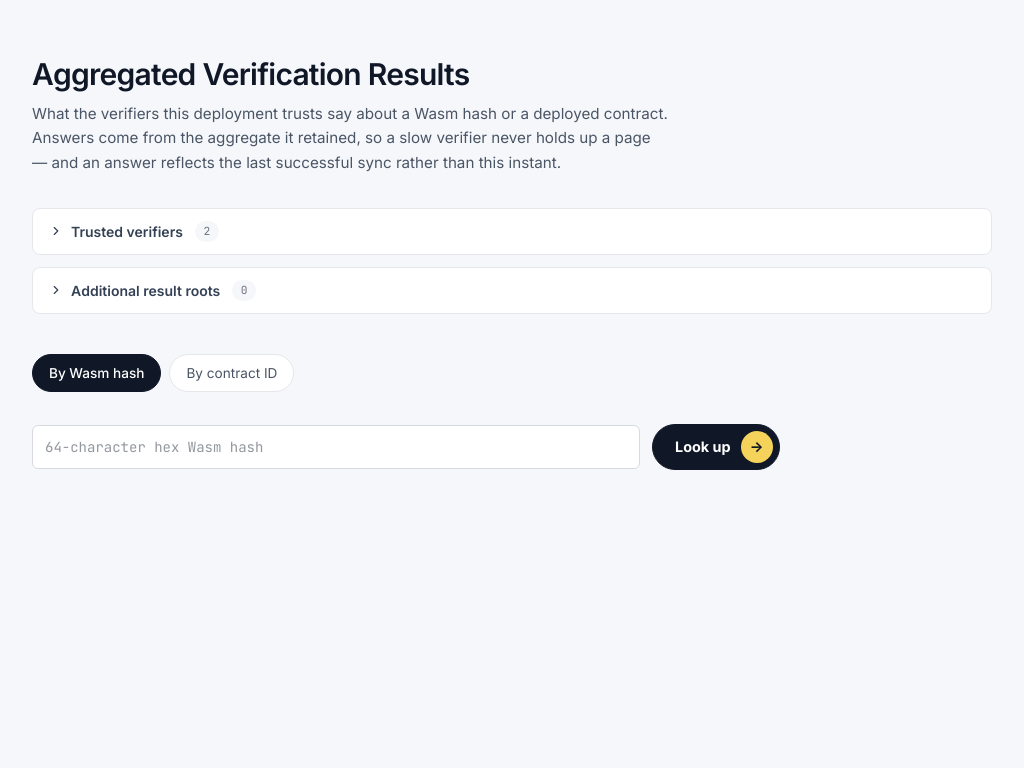
the aggregator page › javascript:alert(1) is refused rather than added
This screenshot has width=1024, height=768.
Click the button with test id "roots-section-toggle": (146, 290) x1=33 y1=268 x2=991 y2=313
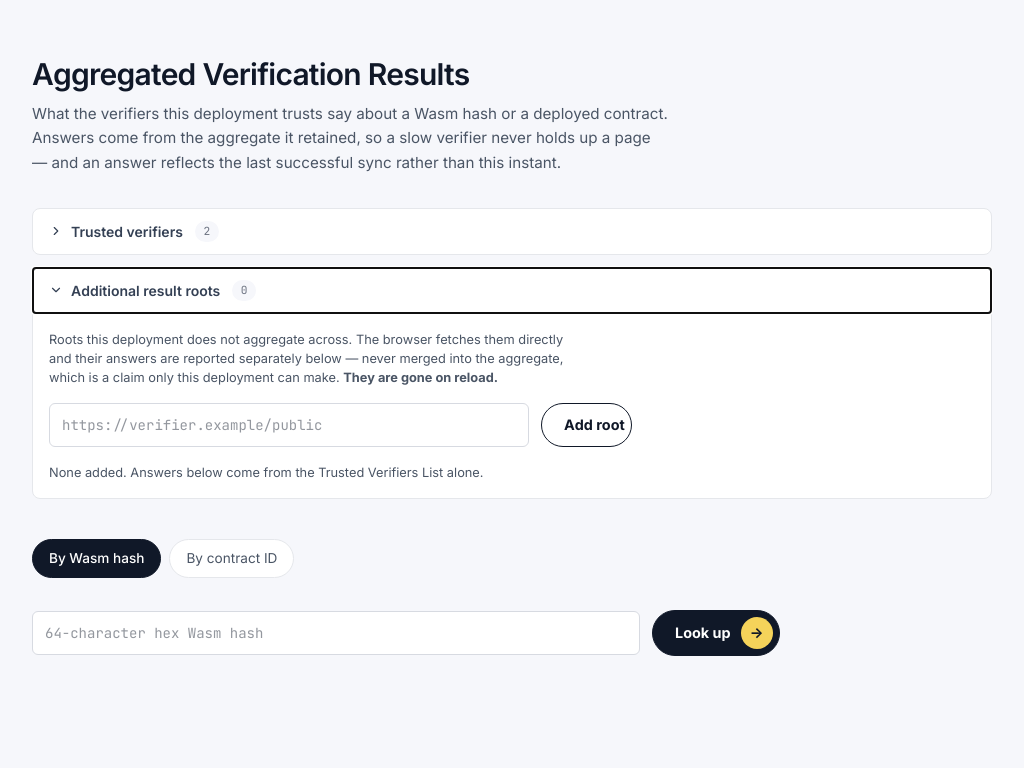
In the field named "Additional result root": (289, 425) x1=49 y1=403 x2=529 y2=447, type "javascript:alert(1)"
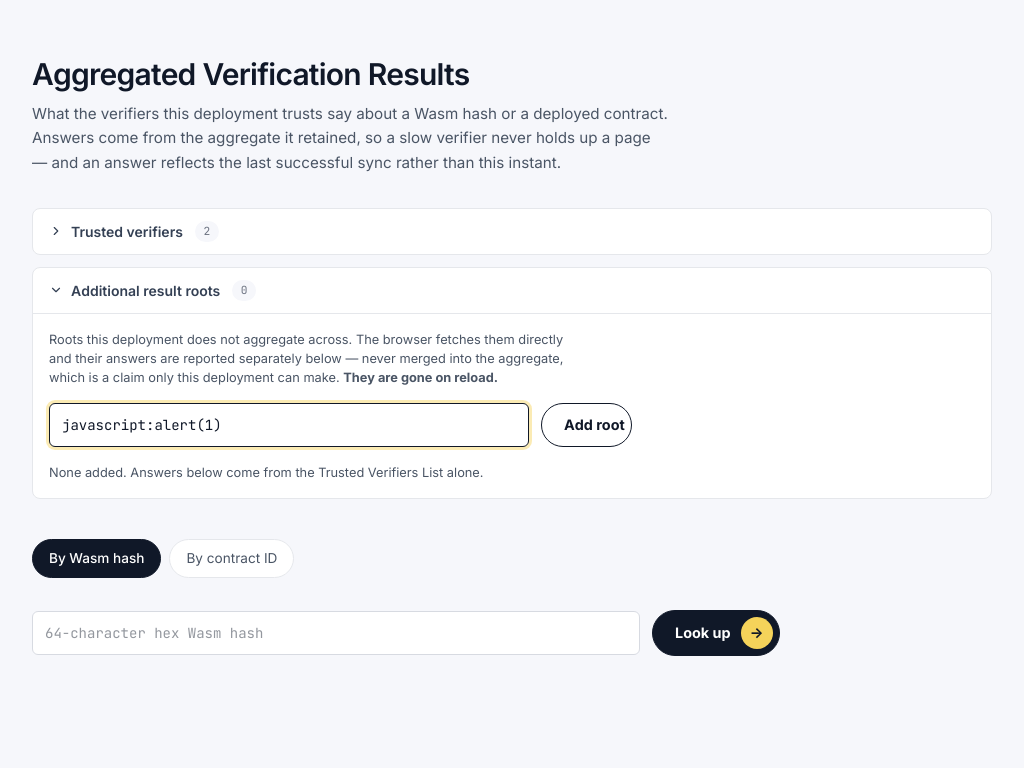
Click the button "Add root": (586, 425) x1=541 y1=403 x2=632 y2=447
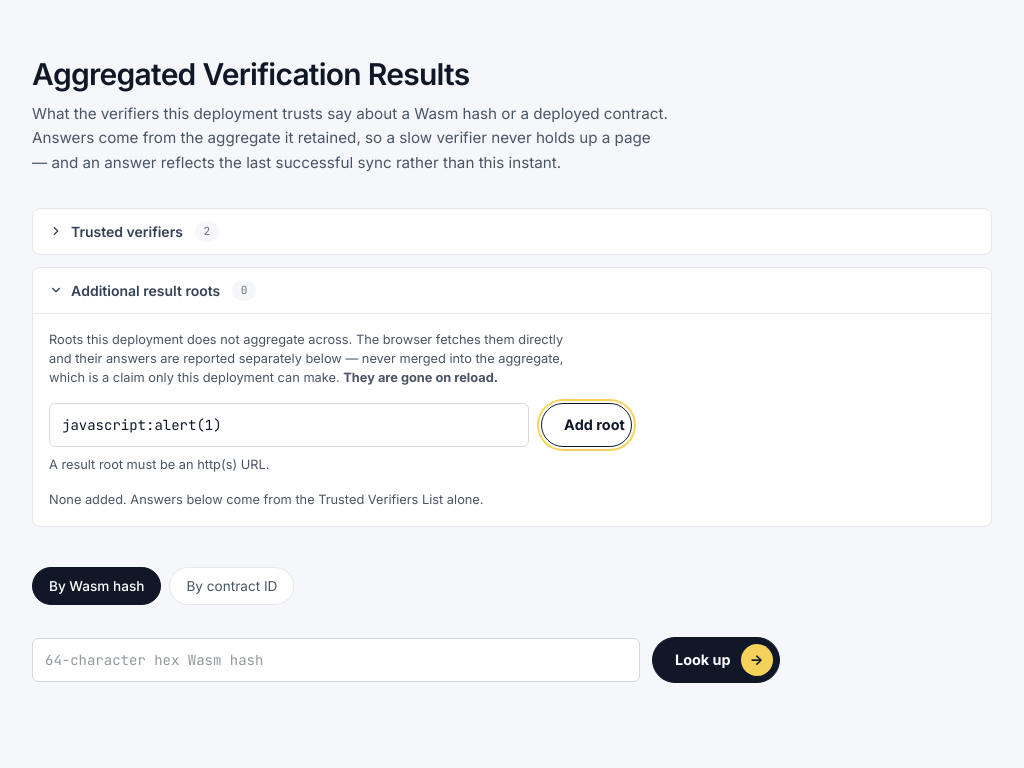
Expected: the text with test id "roots-section-badge" reads "0", x1=241 y1=283 x2=248 y2=297
Expected: the text with test id "additional-root-error" shows "http(s)", x1=49 y1=457 x2=269 y2=472
